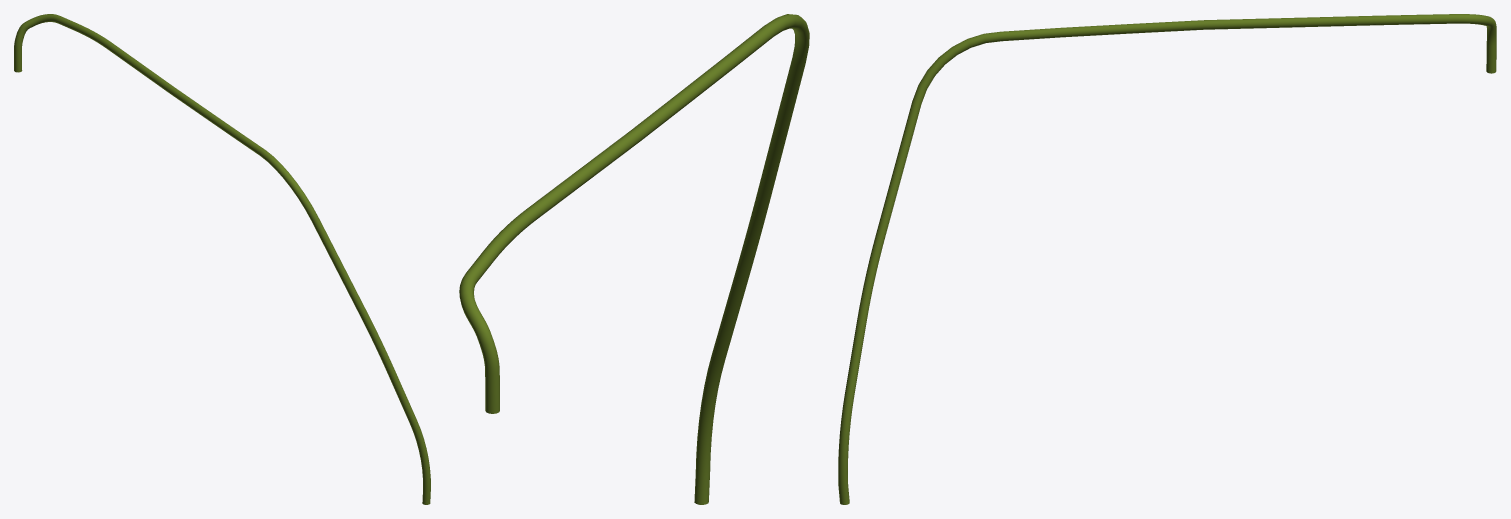
3 renders of one model, left to right at view 1: azimuth 30°, elevation 25°; view 2: azimuth 150°, elevation 25°; view 3: azimuth 270°, elevation 25°, orthographic. The views are drawn at different scales.
Parts seen in each view (by area): view 1: Line003; view 2: Line003; view 3: Line003.
Part boxes in pixels (<box>): Line003: <box>14,14,430,504</box>; Line003: <box>459,14,809,504</box>; Line003: <box>838,14,1496,504</box>.
Size of the model in its own units: 11.06 by 23.26 by 33.15.
1 material, 1 textured.
